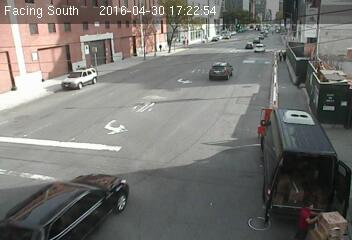neg: (50, 129, 92, 185), (259, 36, 285, 71), (198, 80, 223, 114), (169, 132, 193, 163), (135, 100, 158, 132), (105, 166, 125, 193), (301, 66, 321, 93), (69, 67, 82, 84), (273, 124, 285, 141), (120, 61, 132, 78)
pos: (294, 198, 321, 234)
